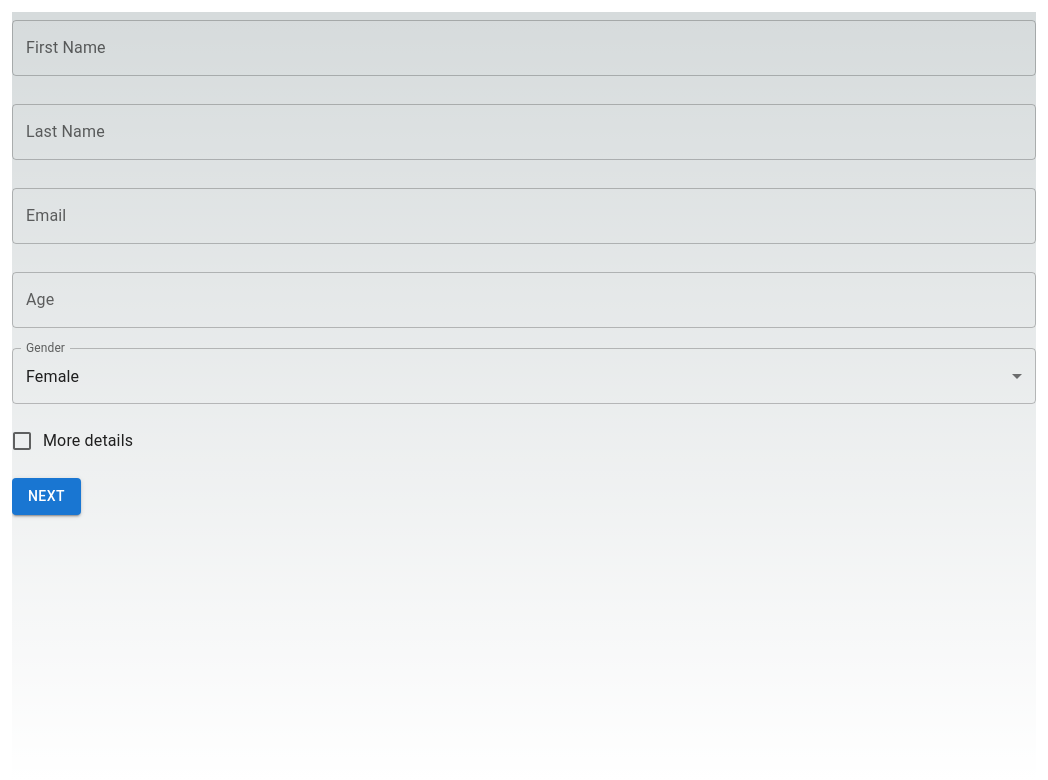
it: FormFirstStep fails › if first name has numbers in it
This screenshot has width=1048, height=780.
In the field labelled "First Name": (524, 48) [12,20,1036,76], type "1221longmont"
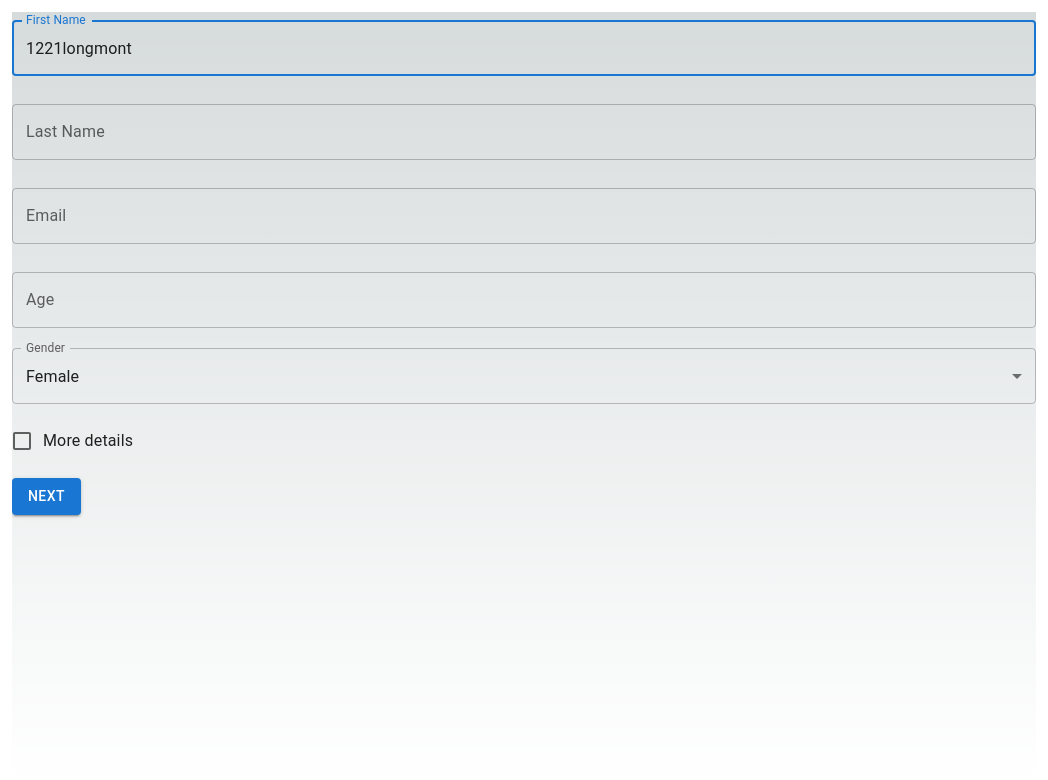
Click the button "Next": (46, 496) [12,478,81,514]
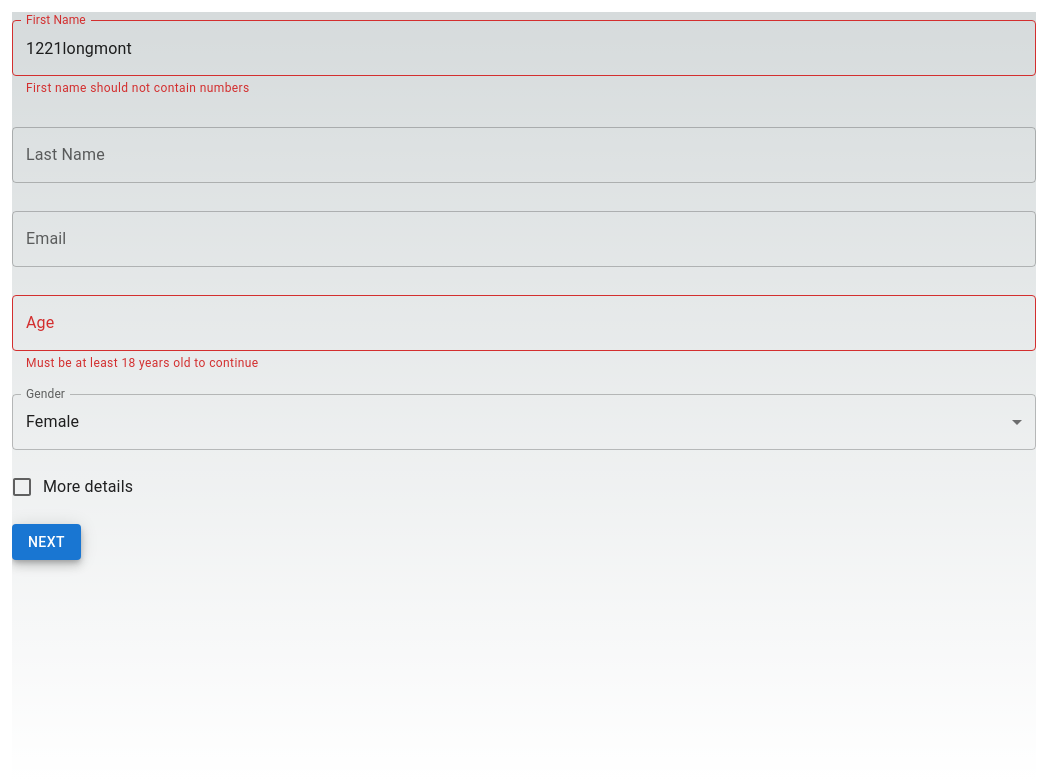
Expected: the text "First name should not contain numbers" is shown, [26,81,250,95]
